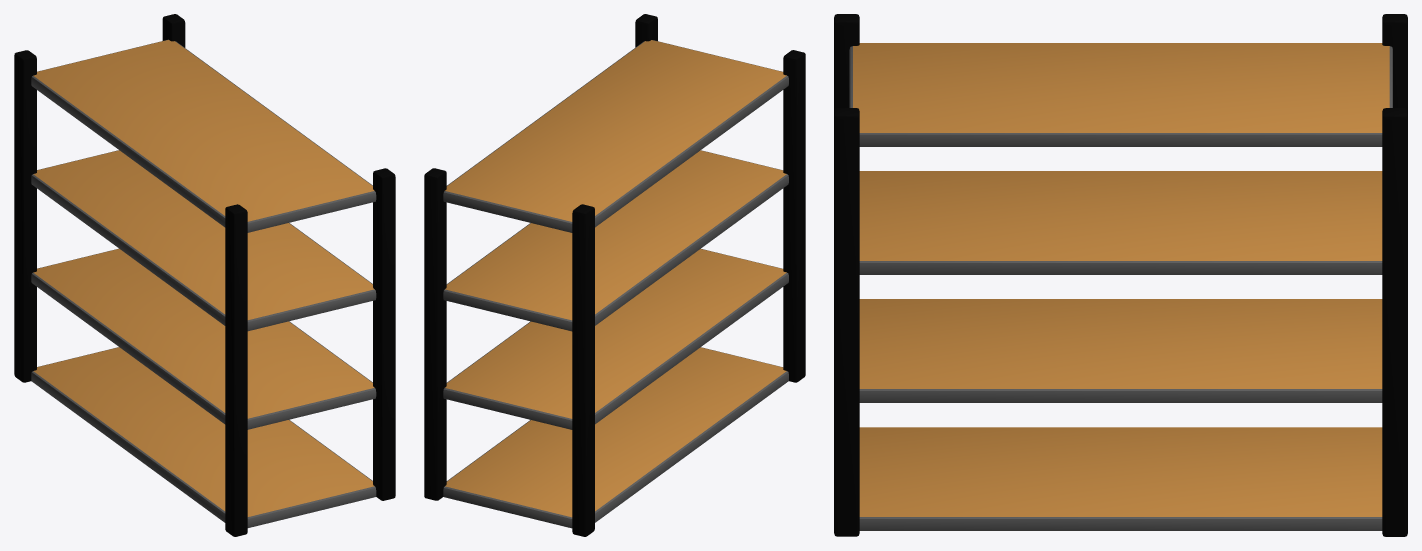
File: Estanteria.fbx
3 renders of one model, left to right at view 1: azimuth 30°, elevation 25°; view 2: azimuth 150°, elevation 25°; view 3: azimuth 270°, elevation 25°, orthographic. The views are drawn at different scales.
Visible parts, largest first — view 1: Box024; view 2: Box024; view 3: Box024.
Boxes of the visible parts, <box> form: Box024: <box>14,14,395,536</box>; Box024: <box>424,14,805,536</box>; Box024: <box>834,14,1407,536</box>.
Size of the model in its own units: 57.59 by 110 by 135.
